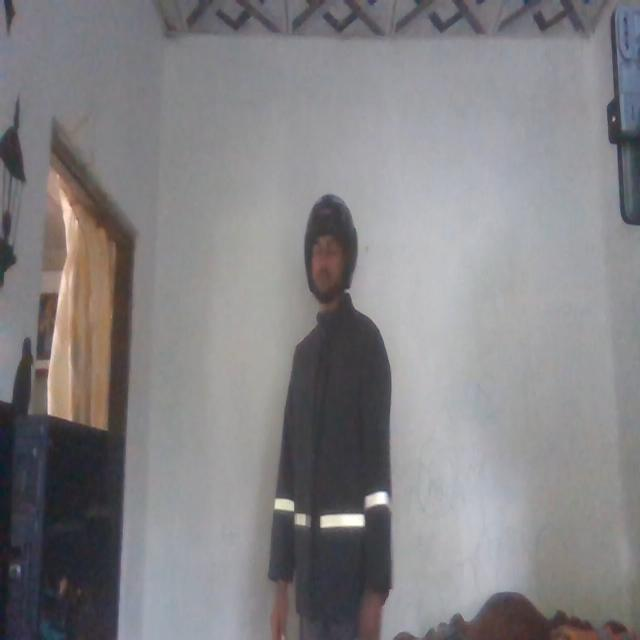Helmet_Wearer: (289, 185, 363, 304)
Jacket_Wearer: (277, 310, 397, 635)
Person: (266, 184, 396, 635)
